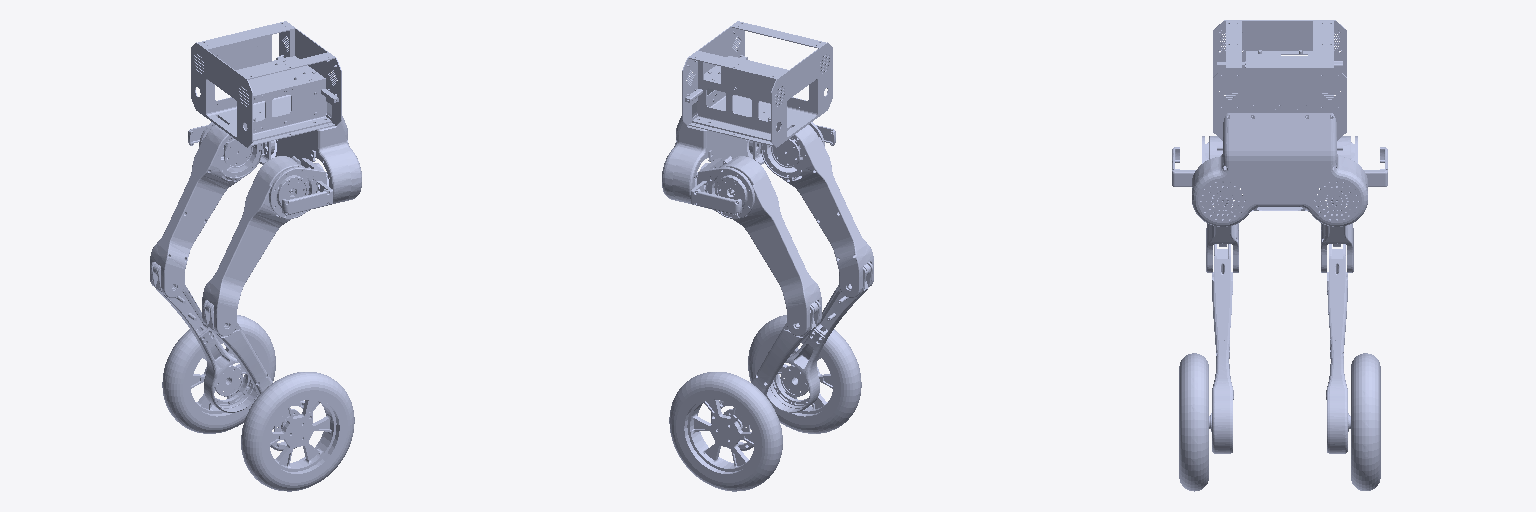
The robot description file, URDF, robot "l5aurdf20260209":
<?xml version="1.0" encoding="utf-8"?>
<!-- This URDF was automatically created by SolidWorks to URDF Exporter! Originally created by Stephen Brawner (brawner@gmail.com) 
     Commit Version: 1.6.0-1-g15f4949  Build Version: 1.6.7594.29634
     For more information, please see http://wiki.ros.org/sw_urdf_exporter -->
<robot
  name="l5aurdf20260209">

  <mujoco>
    <compiler meshdir="../meshes" discardvisual="false" balanceinertia="false" />
  </mujoco>
  <!-- <link name="world"></link>
  <joint name="base_joint" type="floating">
    <parent link="world" />
    <child link="base_link" />
  </joint> -->
  <link
    name="base_link">
    <inertial>
      <origin
        xyz="-0.001149 0.000468 0.011577"
        rpy="0 0 0" />
      <mass
        value="8.8261" />
      <inertia
        ixx="0.11273"
        ixy="0.000393"
        ixz="0.020945"
        iyy="0.097573"
        iyz="-0.000565"
        izz="0.086961" />
    </inertial>
    <visual>
      <origin
        xyz="0 0 0"
        rpy="0 0 0" />
      <geometry>
        <mesh
          filename="../meshes/base_link.STL" />
      </geometry>
      <material
        name="">
        <color
          rgba="0.79216 0.81961 0.93333 1" />
      </material>
    </visual>
    <collision>
      <origin
        xyz="0 0 0"
        rpy="0 0 0" />
      <geometry>
        <mesh
          filename="../meshes/base_link.STL" />
      </geometry>
    </collision>
  </link>
  <link
    name="left_hip_roll_Link">
    <inertial>
      <origin
        xyz="-0.068519 0.040856 6.9E-05"
        rpy="0 0 0" />
      <mass
        value="1.0842" />
      <inertia
        ixx="0.001197"
        ixy="0.000304"
        ixz="1E-06"
        iyy="0.001992"
        iyz="0"
        izz="0.001682" />
    </inertial>
    <visual>
      <origin
        xyz="0 0 0"
        rpy="0 0 0" />
      <geometry>
        <mesh
          filename="../meshes/left_hip_roll_Link.STL" />
      </geometry>
      <material
        name="">
        <color
          rgba="0.79216 0.81961 0.93333 1" />
      </material>
    </visual>
    <collision>
      <origin
        xyz="0 0 0"
        rpy="0 0 0" />
      <geometry>
        <mesh
          filename="../meshes/left_hip_roll_Link.STL" />
      </geometry>
    </collision>
  </link>
  <joint
    name="left_hip_roll_joint"
    type="revolute">
    <origin
      xyz="0.032 0.105 -0.105"
      rpy="0 0 0" />
    <parent
      link="base_link" />
    <child
      link="left_hip_roll_Link" />
    <axis
      xyz="1 0 0" />
    <limit
      lower="-0.384"
      upper="1.396"
      effort="90"
      velocity="16.433" />
  </joint>
  <link
    name="left_hip_pitch_Link">
    <inertial>
      <origin
        xyz="-0.029711 -0.060853 -0.040067"
        rpy="0 0 0" />
      <mass
        value="1.8134" />
      <inertia
        ixx="0.014746"
        ixy="0.001456"
        ixz="-0.007619"
        iyy="0.019147"
        iyz="0.001952"
        izz="0.008009" />
    </inertial>
    <visual>
      <origin
        xyz="0 0 0"
        rpy="0 0 0" />
      <geometry>
        <mesh
          filename="../meshes/left_hip_pitch_Link.STL" />
      </geometry>
      <material
        name="">
        <color
          rgba="0.79216 0.81961 0.93333 1" />
      </material>
    </visual>
    <collision>
      <origin
        xyz="0 0 0"
        rpy="0 0 0" />
      <geometry>
        <mesh
          filename="../meshes/left_hip_pitch_Link.STL" />
      </geometry>
    </collision>
  </link>
  <joint
    name="left_hip_pitch_joint"
    type="revolute">
    <origin
      xyz="-0.078 0.0335 0"
      rpy="0 0 0" />
    <parent
      link="left_hip_roll_Link" />
    <child
      link="left_hip_pitch_Link" />
    <axis
      xyz="0 1 0" />
    <limit
      lower="-1.012"
      upper="1.396"
      effort="90"
      velocity="16.433" />
  </joint>
  <link
    name="left_knee_Link">
    <inertial>
      <origin
        xyz="0.13664 0.002069 -0.23505"
        rpy="0 0 0" />
      <mass
        value="1.5439" />
      <inertia
        ixx="0.01446"
        ixy="-1.5E-05"
        ixz="0.007513"
        iyy="0.019461"
        iyz="2.6E-05"
        izz="0.0055" />
    </inertial>
    <visual>
      <origin
        xyz="0 0 0"
        rpy="0 0 0" />
      <geometry>
        <mesh
          filename="../meshes/left_knee_Link.STL" />
      </geometry>
      <material
        name="">
        <color
          rgba="0.79216 0.81961 0.93333 1" />
      </material>
    </visual>
    <collision>
      <origin
        xyz="0 0 0"
        rpy="0 0 0" />
      <geometry>
        <mesh
          filename="../meshes/left_knee_Link.STL" />
      </geometry>
    </collision>
  </link>
  <joint
    name="left_knee_joint"
    type="revolute">
    <origin
      xyz="-0.1675 -0.0335 -0.2295"
      rpy="0 0 0" />
    <parent
      link="left_hip_pitch_Link" />
    <child
      link="left_knee_Link" />
    <axis
      xyz="0 1 0" />
    <limit
      lower="-1.309"
      upper="0.262"
      effort="130"
      velocity="14.653" />
  </joint>
  <link
    name="left_wheel_Link">
    <inertial>
      <origin
        xyz="2E-06 0.036338 0"
        rpy="0 0 0" />
      <mass
        value="1.35" />
      <inertia
        ixx="0.00596"
        ixy="0"
        ixz="0"
        iyy="0.011283"
        iyz="0"
        izz="0.00596" />
    </inertial>
    <visual>
      <origin
        xyz="0 0 0"
        rpy="0 0 0" />
      <geometry>
        <mesh
          filename="../meshes/left_wheel_Link.STL" />
      </geometry>
      <material
        name="">
        <color
          rgba="0.79216 0.81961 0.93333 1" />
      </material>
    </visual>
    <collision>
      <origin
        xyz="0 0 0"
        rpy="0 0 0" />
      <geometry>
        <mesh
          filename="../meshes/left_wheel_Link.STL" />
      </geometry>
    </collision>
  </link>
  <joint
    name="left_wheel_joint"
    type="revolute">
    <origin
      xyz="0.1675 0.0135 -0.29012"
      rpy="0 0 0" />
    <parent
      link="left_knee_Link" />
    <child
      link="left_wheel_Link" />
    <axis
      xyz="0 1 0" />
    <limit
      lower="-1000000"
      upper="1000000"
      effort="90"
      velocity="16.433" />
  </joint>
  <link
    name="right_hip_roll_Link">
    <inertial>
      <origin
        xyz="-0.067979 -0.040554 -6.7E-05"
        rpy="0 0 0" />
      <mass
        value="1.1148" />
      <inertia
        ixx="0.001252"
        ixy="-0.000338"
        ixz="-1E-06"
        iyy="0.002091"
        iyz="0"
        izz="0.001796" />
    </inertial>
    <visual>
      <origin
        xyz="0 0 0"
        rpy="0 0 0" />
      <geometry>
        <mesh
          filename="../meshes/right_hip_roll_Link.STL" />
      </geometry>
      <material
        name="">
        <color
          rgba="0.79216 0.81961 0.93333 1" />
      </material>
    </visual>
    <collision>
      <origin
        xyz="0 0 0"
        rpy="0 0 0" />
      <geometry>
        <mesh
          filename="../meshes/right_hip_roll_Link.STL" />
      </geometry>
    </collision>
  </link>
  <joint
    name="right_hip_roll_joint"
    type="revolute">
    <origin
      xyz="0.032 -0.105 -0.105"
      rpy="0 0 0" />
    <parent
      link="base_link" />
    <child
      link="right_hip_roll_Link" />
    <axis
      xyz="-1 0 0" />
    <limit
      lower="-0.384"
      upper="1.396"
      effort="90"
      velocity="16.433" />
  </joint>
  <link
    name="right_hip_pitch_Link">
    <inertial>
      <origin
        xyz="-0.029441 0.060837 -0.039823"
        rpy="0 0 0" />
      <mass
        value="1.8264" />
      <inertia
        ixx="0.014762"
        ixy="-0.001456"
        ixz="-0.007638"
        iyy="0.019188"
        iyz="-0.001953"
        izz="0.008027" />
    </inertial>
    <visual>
      <origin
        xyz="0 0 0"
        rpy="0 0 0" />
      <geometry>
        <mesh
          filename="../meshes/right_hip_pitch_Link.STL" />
      </geometry>
      <material
        name="">
        <color
          rgba="0.79216 0.81961 0.93333 1" />
      </material>
    </visual>
    <collision>
      <origin
        xyz="0 0 0"
        rpy="0 0 0" />
      <geometry>
        <mesh
          filename="../meshes/right_hip_pitch_Link.STL" />
      </geometry>
    </collision>
  </link>
  <joint
    name="right_hip_pitch_joint"
    type="revolute">
    <origin
      xyz="-0.078 -0.0335 0"
      rpy="0 0 0" />
    <parent
      link="right_hip_roll_Link" />
    <child
      link="right_hip_pitch_Link" />
    <axis
      xyz="0 1 0" />
    <limit
      lower="-1.012"
      upper="1.396"
      effort="90"
      velocity="16.433" />
  </joint>
  <link
    name="right_knee_Link">
    <inertial>
      <origin
        xyz="0.14279 -0.002434 -0.24622"
        rpy="0 0 0" />
      <mass
        value="1.2578" />
      <inertia
        ixx="0.01117"
        ixy="6.2E-05"
        ixz="0.005788"
        iyy="0.014987"
        iyz="-0.000108"
        izz="0.004347" />
    </inertial>
    <visual>
      <origin
        xyz="0 0 0"
        rpy="0 0 0" />
      <geometry>
        <mesh
          filename="../meshes/right_knee_Link.STL" />
      </geometry>
      <material
        name="">
        <color
          rgba="0.79216 0.81961 0.93333 1" />
      </material>
    </visual>
    <collision>
      <origin
        xyz="0 0 0"
        rpy="0 0 0" />
      <geometry>
        <mesh
          filename="../meshes/right_knee_Link.STL" />
      </geometry>
    </collision>
  </link>
  <joint
    name="right_knee_joint"
    type="revolute">
    <origin
      xyz="-0.1675 0.0335 -0.2295"
      rpy="0 0 0" />
    <parent
      link="right_hip_pitch_Link" />
    <child
      link="right_knee_Link" />
    <axis
      xyz="0 1 0" />
    <limit
      lower="-1.309"
      upper="0.262"
      effort="130"
      velocity="14.653" />
  </joint>
  <link
    name="right_wheel_Link">
    <inertial>
      <origin
        xyz="0 -0.036338 2E-06"
        rpy="0 0 0" />
      <mass
        value="1.35" />
      <inertia
        ixx="0.00596"
        ixy="0"
        ixz="0"
        iyy="0.011283"
        iyz="0"
        izz="0.00596" />
    </inertial>
    <visual>
      <origin
        xyz="0 0 0"
        rpy="0 0 0" />
      <geometry>
        <mesh
          filename="../meshes/right_wheel_Link.STL" />
      </geometry>
      <material
        name="">
        <color
          rgba="0.79216 0.81961 0.93333 1" />
      </material>
    </visual>
    <collision>
      <origin
        xyz="0 0 0"
        rpy="0 0 0" />
      <geometry>
        <mesh
          filename="../meshes/right_wheel_Link.STL" />
      </geometry>
    </collision>
  </link>
  <joint
    name="right_wheel_joint"
    type="revolute">
    <origin
      xyz="0.1675 -0.0135 -0.29012"
      rpy="0 0 0" />
    <parent
      link="right_knee_Link" />
    <child
      link="right_wheel_Link" />
    <axis
      xyz="0 1 0" />
    <limit
      lower="-1000000"
      upper="1000000"
      effort="90"
      velocity="16.433" />
  </joint>
</robot>

--- Render facts (derived) ---
The picture shows the robot from 3 angles, left to right: view 1: azimuth 30°, elevation 25°; view 2: azimuth 150°, elevation 25°; view 3: azimuth 270°, elevation 25°; orthographic projection.
Model l5aurdf20260209 with 9 links and 8 joints (8 revolute), rooted at base_link, posed all joints at 0.
Visible links, largest first — view 1: base_link, right_wheel_Link, left_hip_pitch_Link, right_hip_pitch_Link, left_wheel_Link, left_knee_Link, right_hip_roll_Link, right_knee_Link, left_hip_roll_Link; view 2: base_link, left_wheel_Link, right_hip_pitch_Link, left_hip_pitch_Link, right_wheel_Link, right_knee_Link, left_hip_roll_Link, left_knee_Link, right_hip_roll_Link; view 3: base_link, right_wheel_Link, left_wheel_Link, left_knee_Link, right_knee_Link, left_hip_pitch_Link, right_hip_pitch_Link, left_hip_roll_Link, right_hip_roll_Link.
Link boxes in pixels (left/top/right/bottom): base_link: left=191, top=21, right=361, bottom=205; right_wheel_Link: left=241, top=372, right=354, bottom=491; left_hip_pitch_Link: left=150, top=120, right=262, bottom=297; right_hip_pitch_Link: left=202, top=156, right=309, bottom=335; left_wheel_Link: left=162, top=315, right=275, bottom=433; left_knee_Link: left=151, top=262, right=257, bottom=412; right_hip_roll_Link: left=269, top=158, right=332, bottom=218; right_knee_Link: left=203, top=300, right=312, bottom=450; left_hip_roll_Link: left=188, top=118, right=274, bottom=164; base_link: left=662, top=21, right=832, bottom=205; left_wheel_Link: left=669, top=372, right=782, bottom=491; right_hip_pitch_Link: left=761, top=125, right=873, bottom=297; left_hip_pitch_Link: left=714, top=156, right=821, bottom=335; right_wheel_Link: left=748, top=315, right=861, bottom=433; right_knee_Link: left=766, top=262, right=872, bottom=412; left_hip_roll_Link: left=691, top=158, right=754, bottom=218; left_knee_Link: left=711, top=300, right=820, bottom=450; right_hip_roll_Link: left=749, top=122, right=835, bottom=164; base_link: left=1192, top=20, right=1367, bottom=226; right_wheel_Link: left=1179, top=353, right=1211, bottom=491; left_wheel_Link: left=1348, top=353, right=1380, bottom=490; left_knee_Link: left=1326, top=244, right=1347, bottom=453; right_knee_Link: left=1212, top=244, right=1233, bottom=453; left_hip_pitch_Link: left=1321, top=136, right=1353, bottom=272; right_hip_pitch_Link: left=1206, top=136, right=1238, bottom=272; left_hip_roll_Link: left=1321, top=136, right=1387, bottom=197; right_hip_roll_Link: left=1172, top=136, right=1238, bottom=197.
Bounding box of the posed robot: 0.3315 × 0.3966 × 0.9015 m (x, y, z).
9 mesh visuals loaded from 9 distinct referenced files (9 binary STL).
